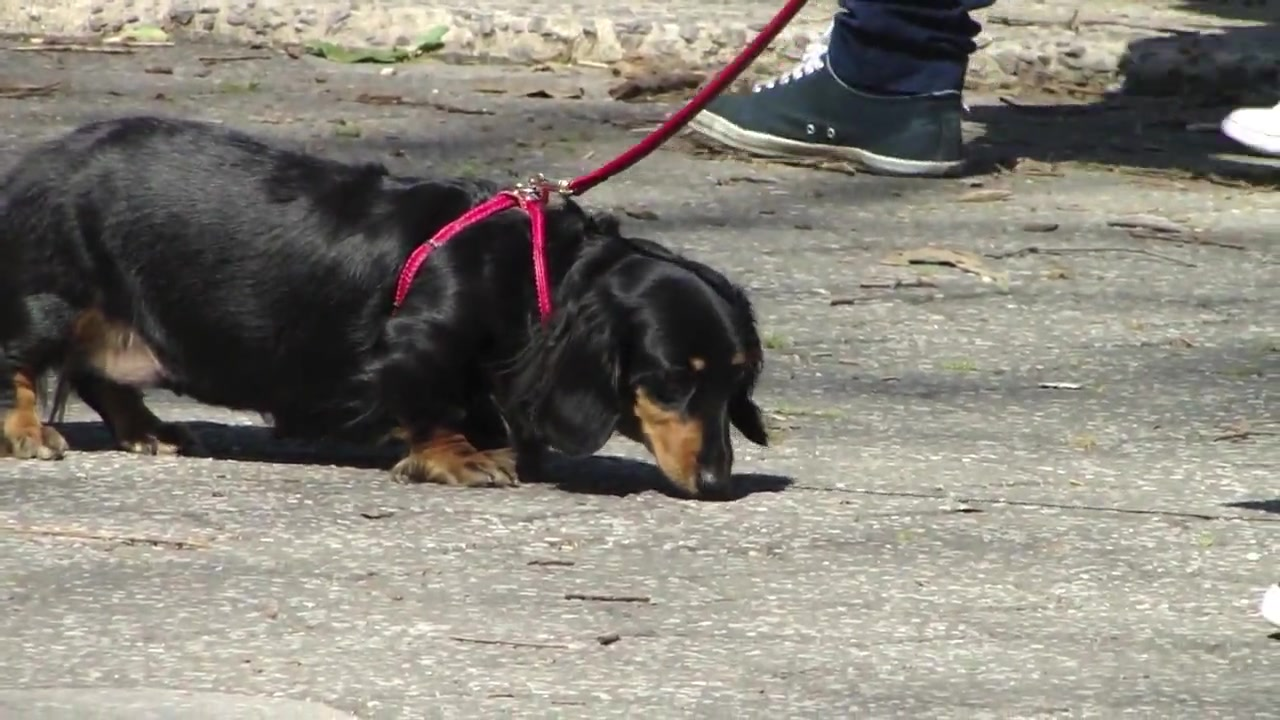dog: (1, 115, 771, 503)
